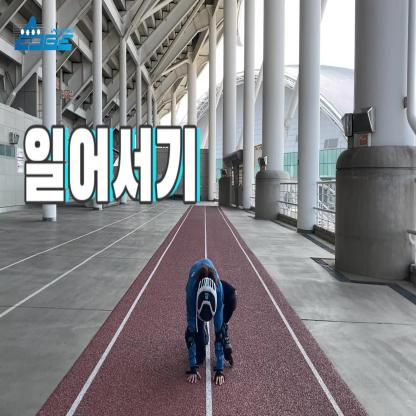Fall_Down: (186, 259, 239, 388)
